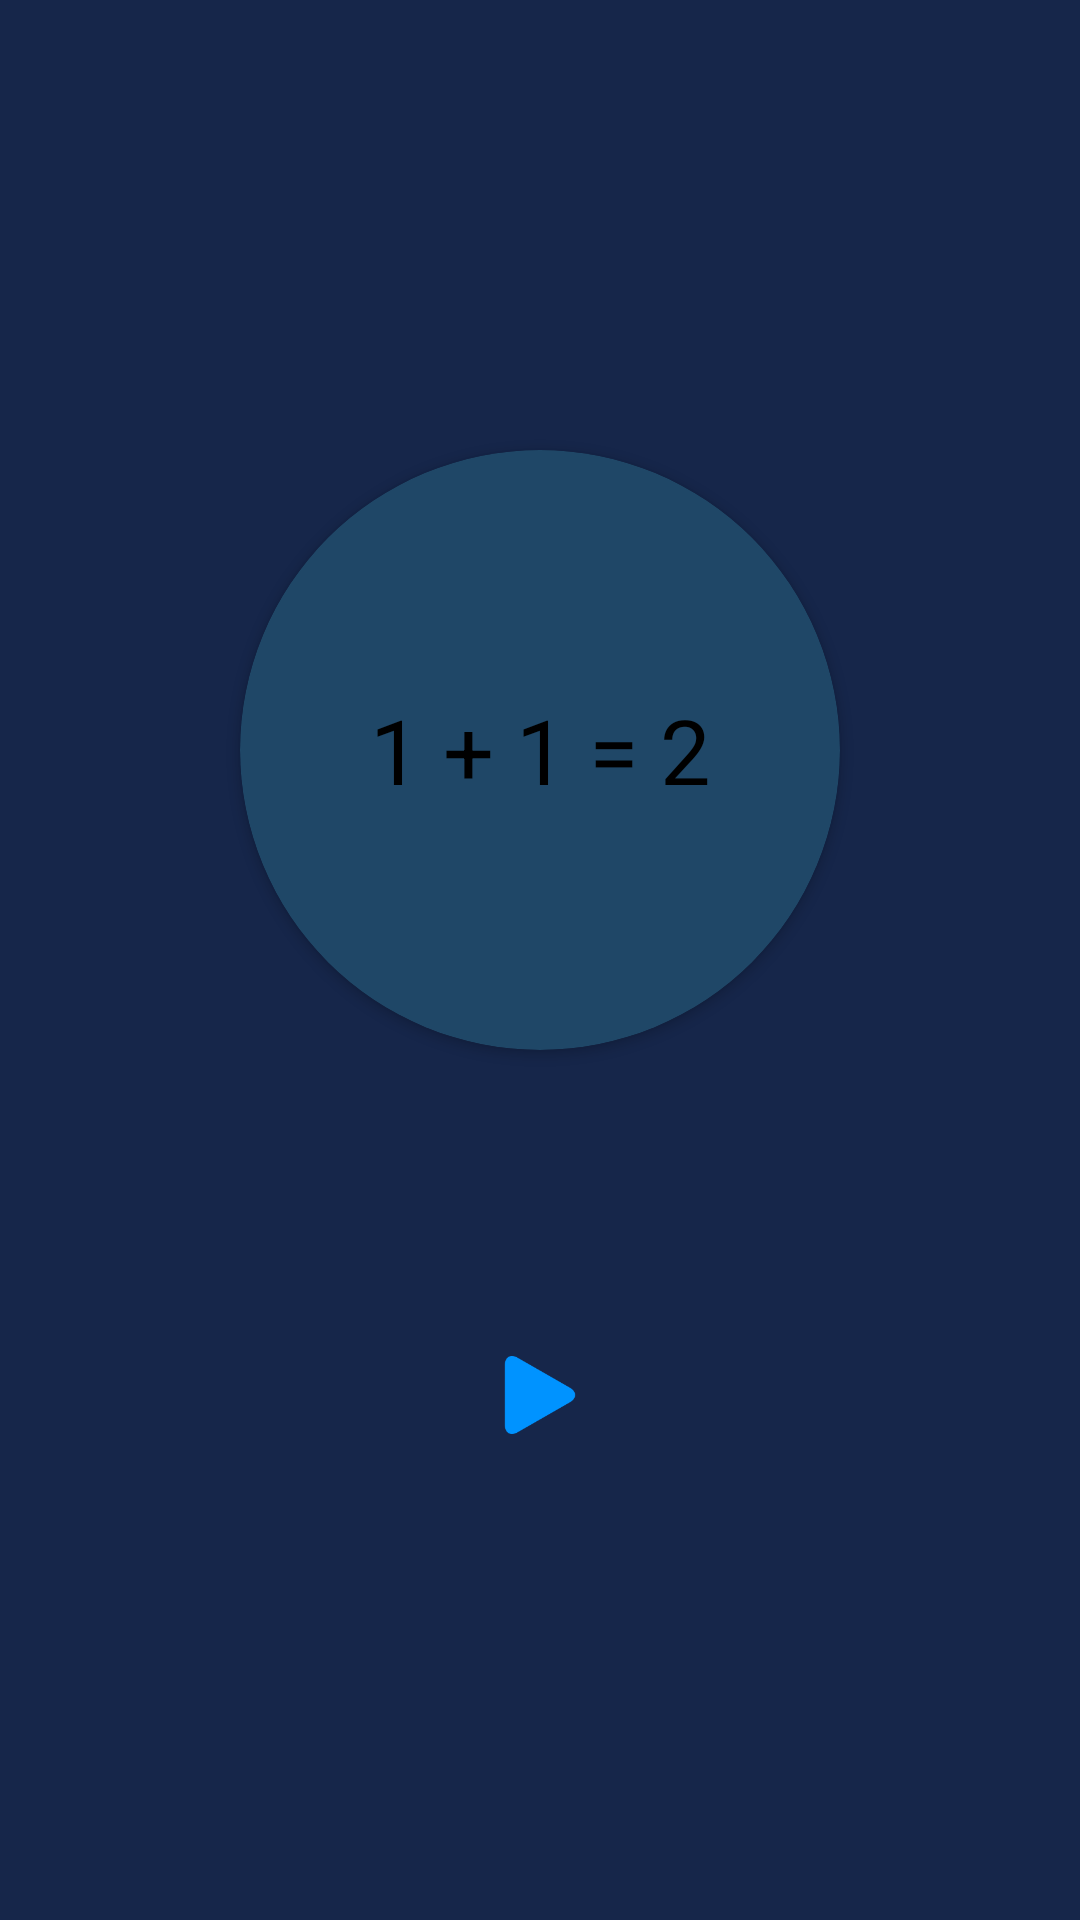

Icons on this 1080x1920 Android screen, each with the point to tap as point (x, y):
play: point (540, 1395)
